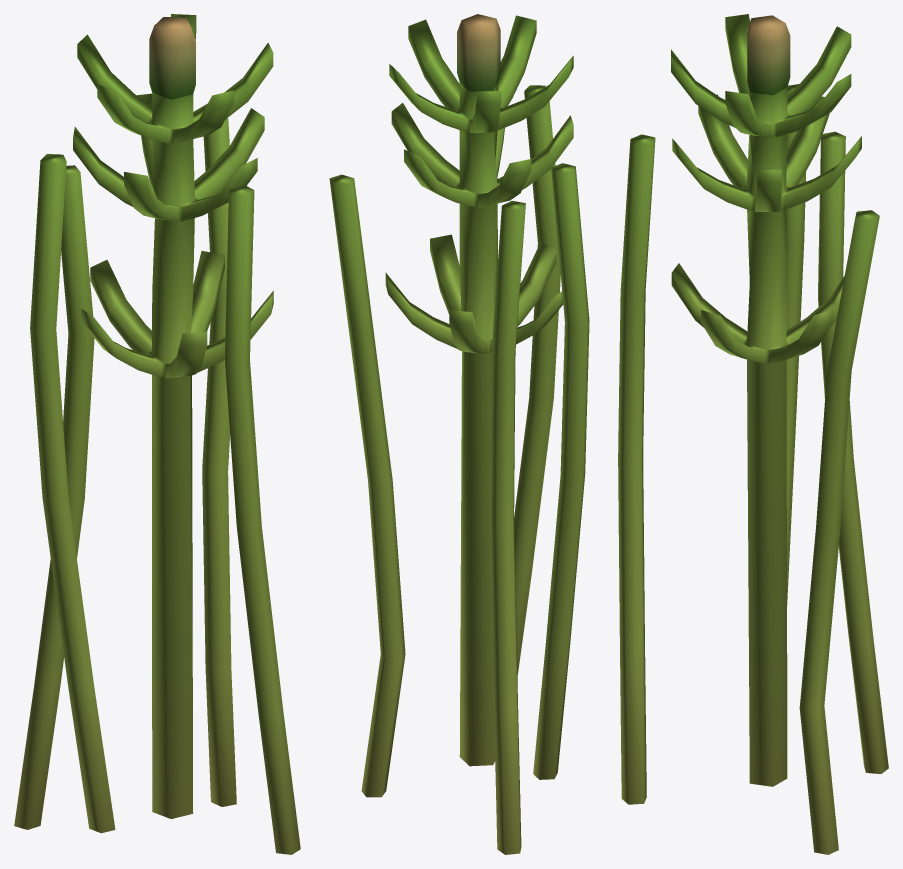
File: water_horsetail(1).fbx
3 renders of one model, left to right at view 1: azimuth 30°, elevation 25°; view 2: azimuth 150°, elevation 25°; view 3: azimuth 270°, elevation 25°, orthographic. The views are drawn at different scales.
Visible parts, largest first — view 1: Bloom, Stalk; view 2: Bloom, Stalk; view 3: Bloom, Stalk.
Part boxes in pixels (bbox=[...]): Bloom: bbox=[14, 14, 300, 854]; Stalk: bbox=[30, 154, 115, 833]; Bloom: bbox=[329, 14, 573, 854]; Stalk: bbox=[533, 163, 589, 779]; Bloom: bbox=[618, 14, 888, 854]; Stalk: bbox=[786, 84, 805, 605].
Bounding box in the file's own units: 31.42 × 105 × 32.6.
Materials: 1 (1 with a texture image).
